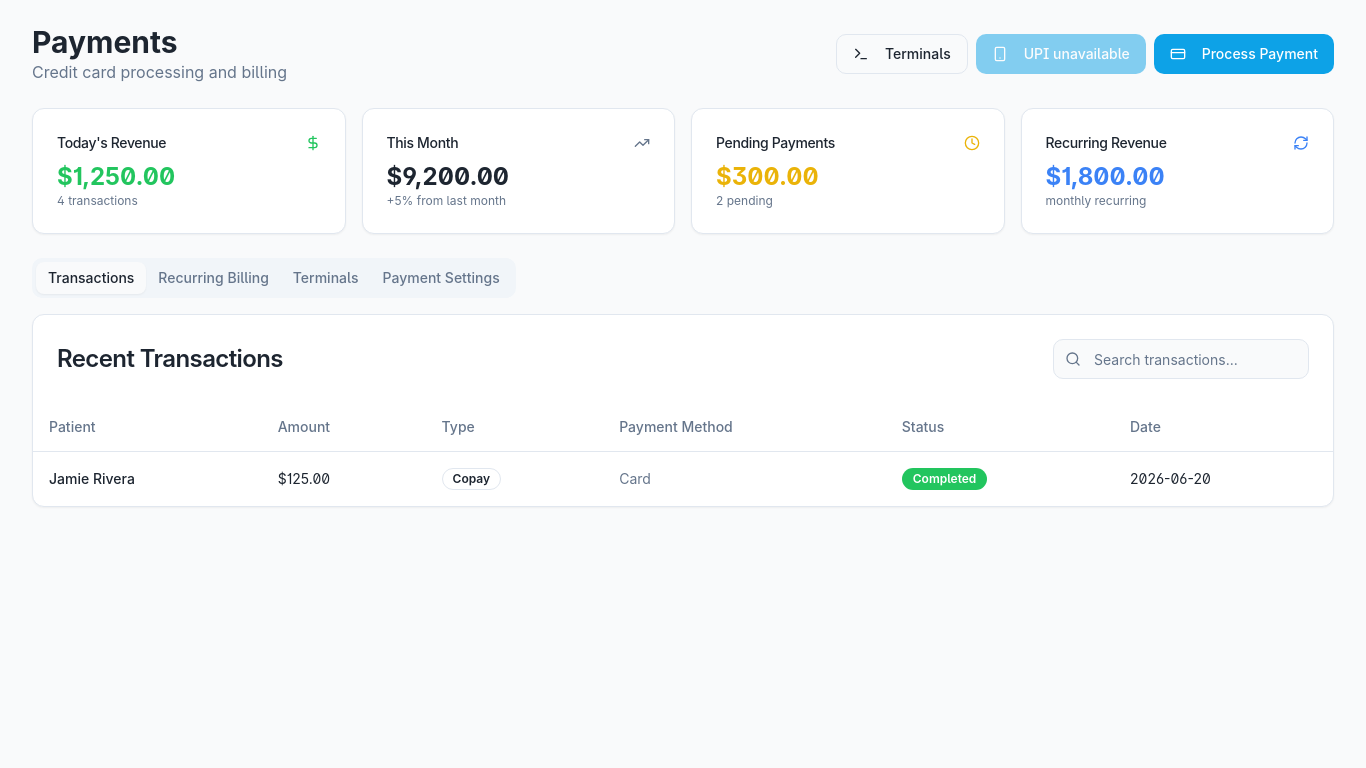
Scenario: Payments › does not expose unsupported UPI or raw card collection
Expected: the button "UPI unavailable" is disabled, x1=976 y1=34 x2=1146 y2=74
Click the button "Process Payment" at (1244, 54), box x1=1154 y1=34 x2=1334 y2=74
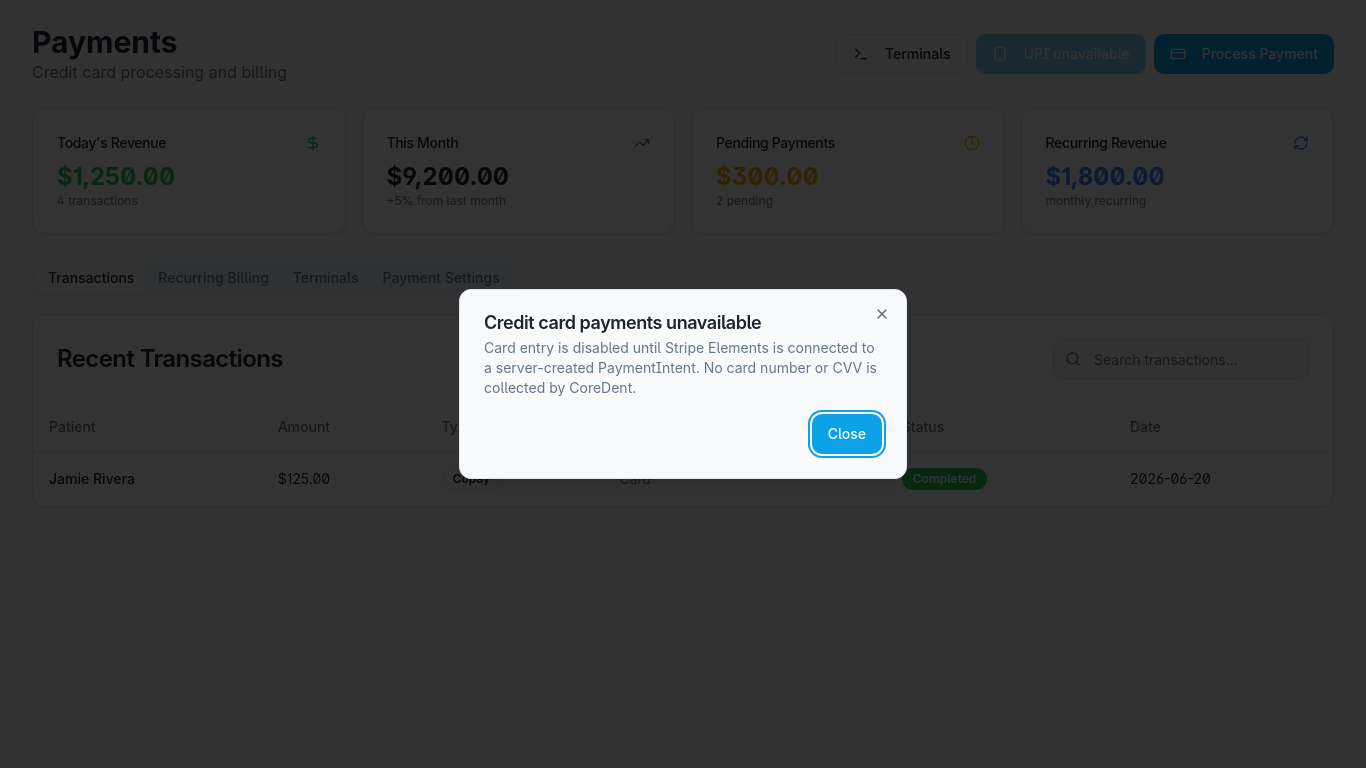
Now the dialog shows "Credit card payments unavailable", box x1=484 y1=312 x2=761 y2=333
Now the dialog shows "No card number or CVV is collected", box x1=484 y1=339 x2=877 y2=396
